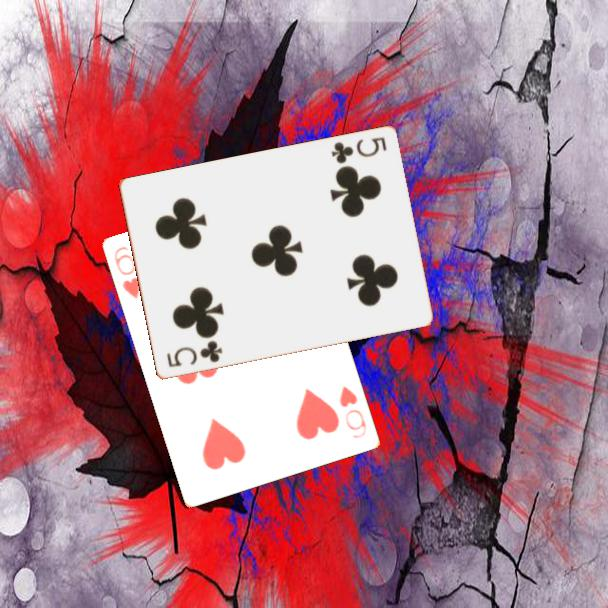c05: (163, 337, 225, 371), (327, 134, 389, 167)
h06: (336, 382, 370, 442), (111, 243, 144, 302)
